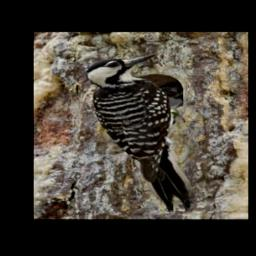Woodpecker: (85, 53, 195, 213)
